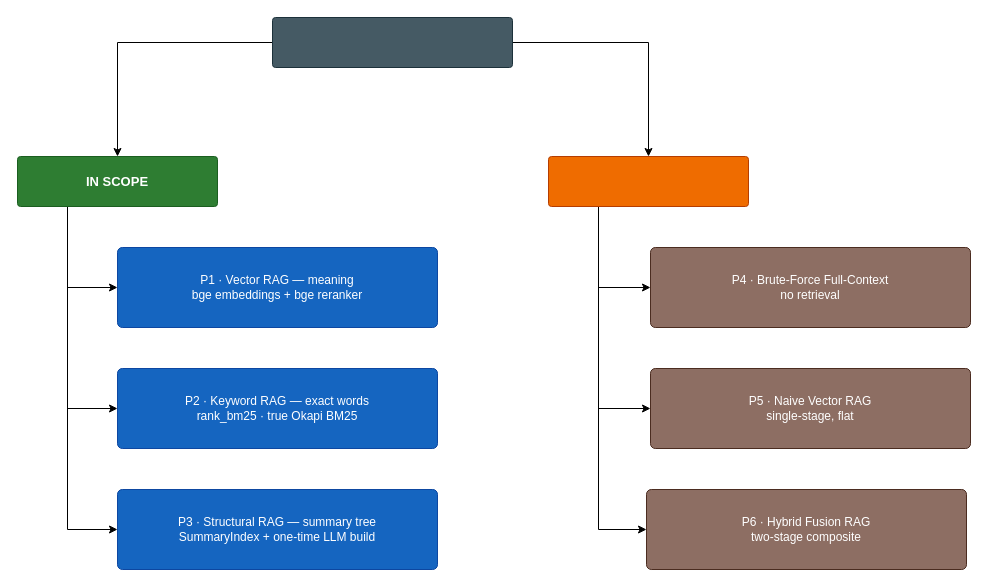
The diagram is 988 pixels wide and 587 high, and some of its shapes have lost their labels. The shapes that lost their labels are listed below. From the top down, each one's centre as x and y in pixels, then its label:
At (x=392, y=42): "Research Pipeline Registry".
At (x=648, y=181): "FUTURE SCOPE".
